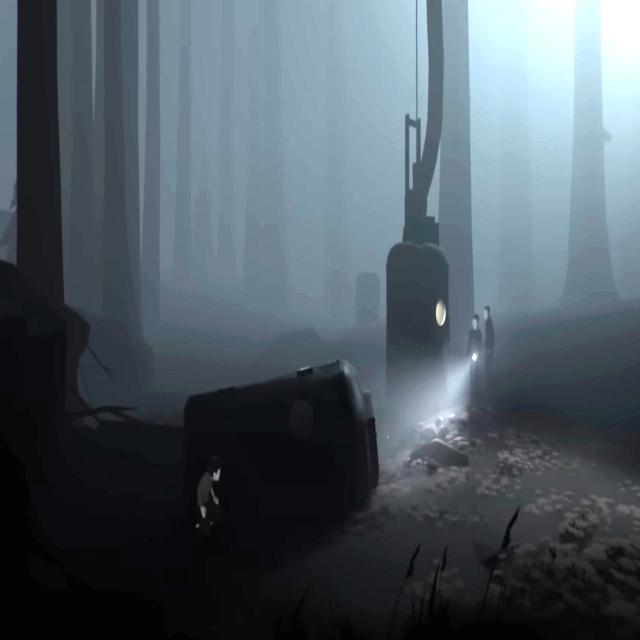boy: (194, 456, 222, 533)
human: (467, 314, 482, 400), (483, 306, 496, 394)
